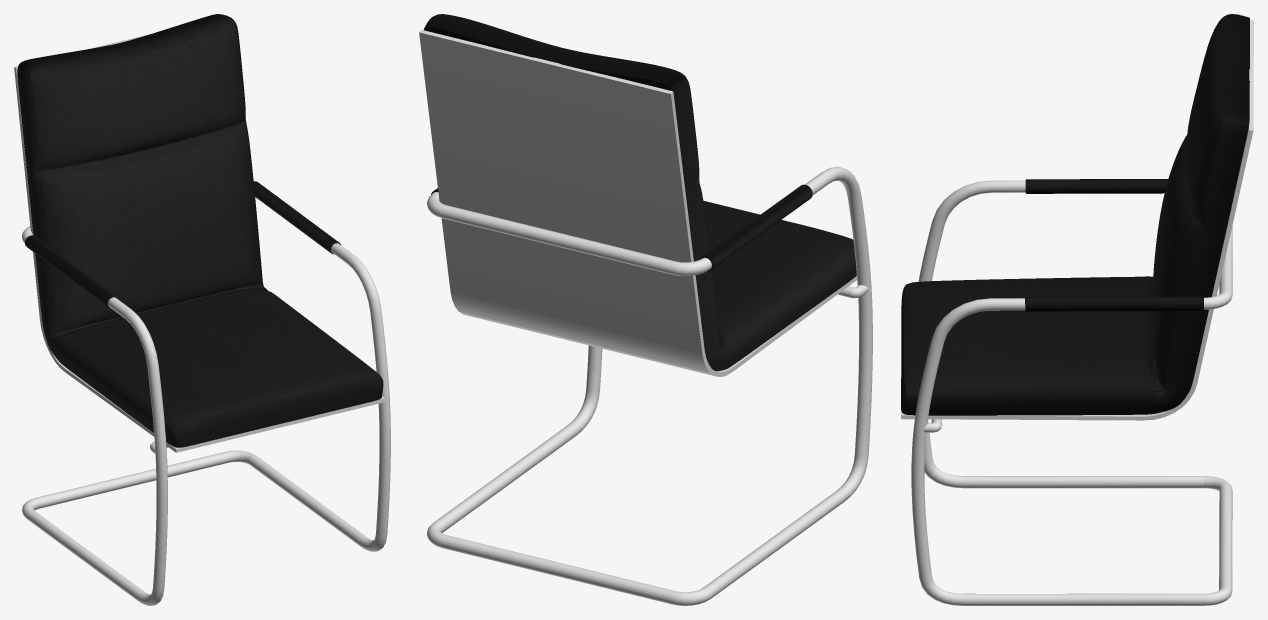
The model's file is yizi.FBX.
The picture shows the model from 3 angles, left to right: view 1: azimuth 30°, elevation 25°; view 2: azimuth 150°, elevation 25°; view 3: azimuth 270°, elevation 25°; orthographic projection. The views are drawn at different scales.
Visible parts, largest first — view 1: Arch26_931, Arch26_93_, Object01, Arch26_930; view 2: Arch26_930, Arch26_931, Arch26_93_, Object01; view 3: Arch26_931, Arch26_93_, Object01, Arch26_930.
Boxes of the visible parts, bbox=[...] form: Arch26_931: bbox=[17, 14, 383, 447]; Arch26_93_: bbox=[22, 226, 390, 605]; Object01: bbox=[25, 181, 340, 308]; Arch26_930: bbox=[14, 34, 385, 452]; Arch26_930: bbox=[419, 30, 856, 376]; Arch26_931: bbox=[424, 14, 856, 371]; Arch26_93_: bbox=[427, 167, 872, 605]; Object01: bbox=[431, 184, 812, 271]; Arch26_931: bbox=[901, 14, 1249, 415]; Arch26_93_: bbox=[911, 180, 1232, 605]; Object01: bbox=[1025, 179, 1203, 311]; Arch26_930: bbox=[901, 20, 1253, 420].
Bounding box in the file's own units: 480 × 867 × 578.
4 materials, 2 textured.
